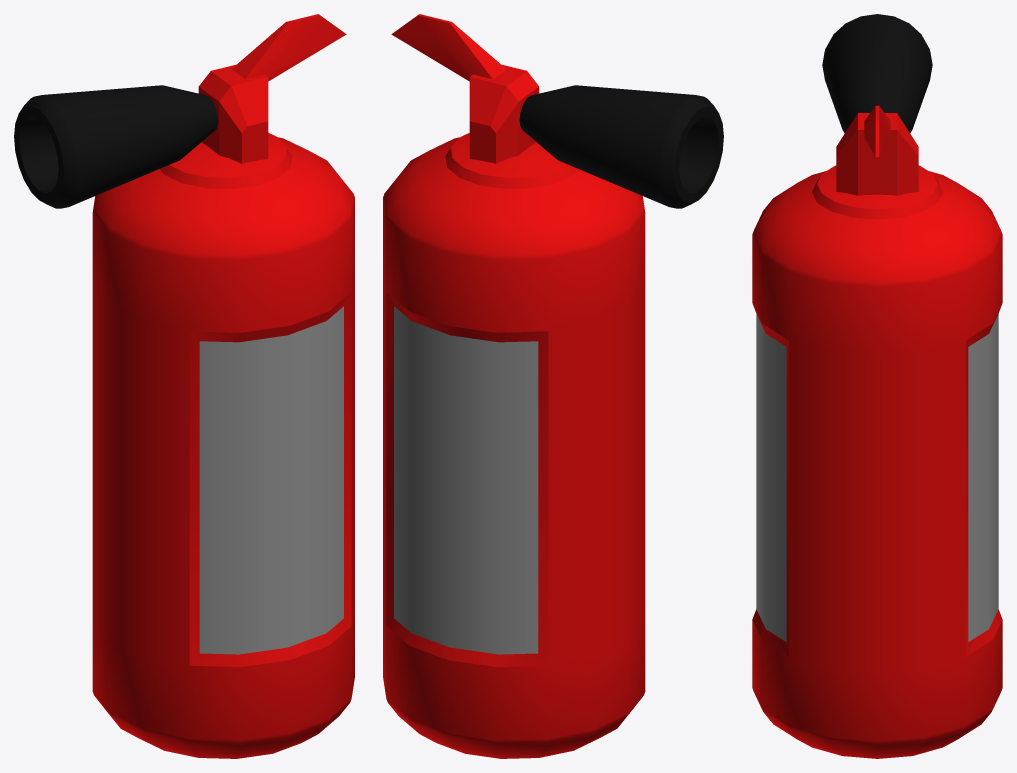
The model's file is FireExtinguisher.FBX.
3 renders of one model, left to right at view 1: azimuth 30°, elevation 25°; view 2: azimuth 150°, elevation 25°; view 3: azimuth 270°, elevation 25°, orthographic. The views are drawn at different scales.
Visible parts, largest first — view 1: FireExtinguisher; view 2: FireExtinguisher; view 3: FireExtinguisher.
Part boxes in pixels (x1=…): FireExtinguisher: x1=14, y1=14, x2=354, y2=758; FireExtinguisher: x1=383, y1=14, x2=723, y2=758; FireExtinguisher: x1=752, y1=14, x2=1002, y2=758.
Bounding box in the file's own units: 52.07 × 114 × 38.87.
